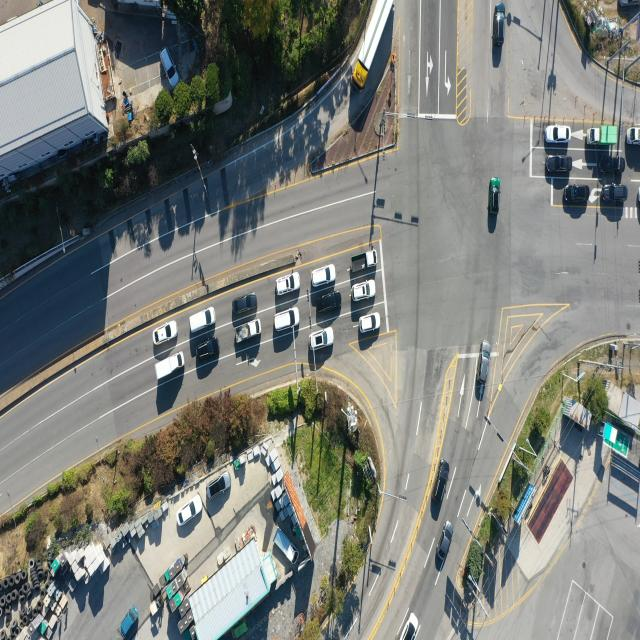car: (436, 517, 456, 562), (432, 462, 450, 506), (176, 496, 202, 526), (189, 307, 216, 334), (478, 338, 492, 387), (161, 46, 178, 83), (274, 307, 301, 330), (233, 294, 260, 317), (209, 474, 231, 501), (196, 340, 222, 362), (277, 274, 301, 297), (155, 320, 178, 344), (310, 329, 334, 352), (310, 266, 334, 288), (318, 293, 342, 315), (546, 126, 572, 145), (402, 613, 420, 640), (352, 281, 376, 301), (564, 184, 590, 202), (604, 184, 630, 202), (358, 313, 380, 333), (549, 156, 573, 174), (601, 156, 626, 173), (490, 176, 500, 214), (495, 7, 505, 45)
medium_truck: (350, 0, 394, 89)
small_truck: (274, 526, 300, 564), (157, 350, 187, 381), (588, 126, 620, 148), (236, 319, 262, 343), (349, 250, 376, 272), (119, 610, 136, 640), (627, 128, 640, 146)
